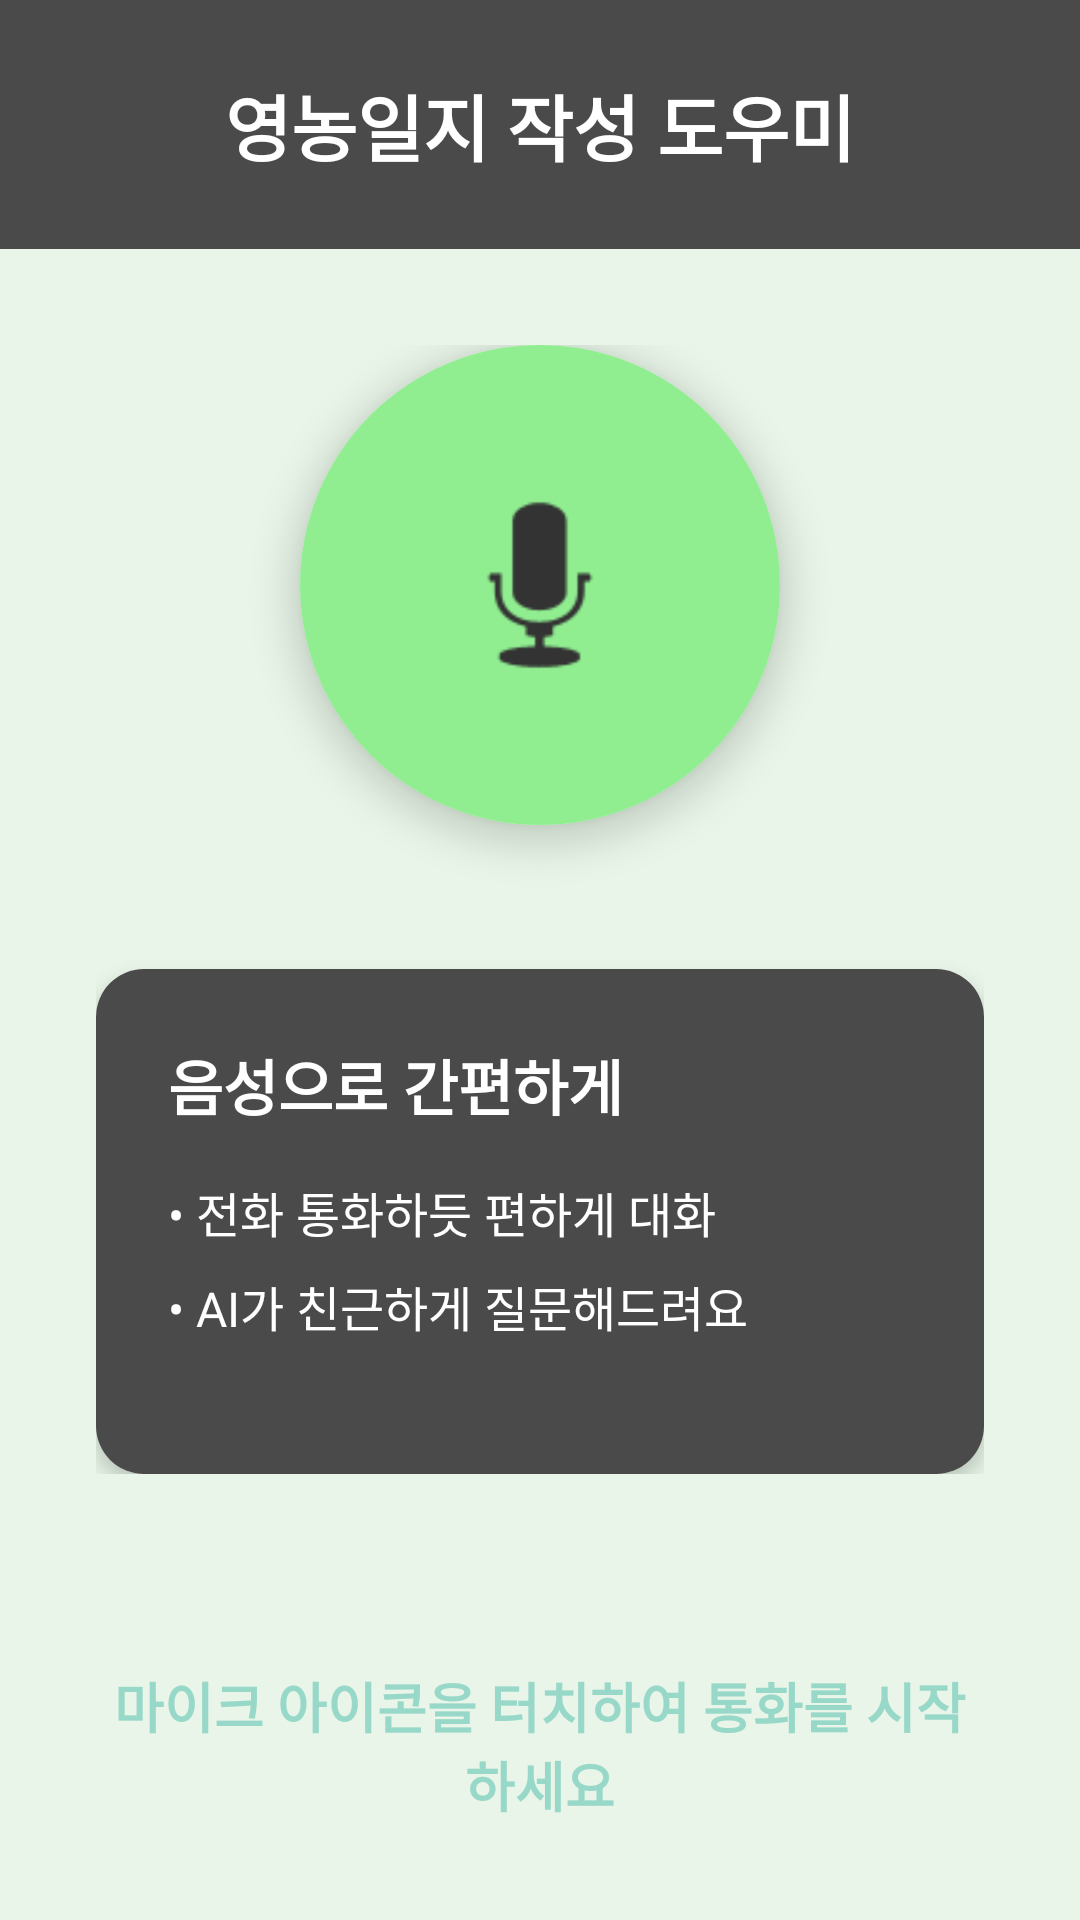

Named icons in this screenshot (1080 × 1920) and their centers, (x=x, y=y):
speak now: (x=540, y=585)
